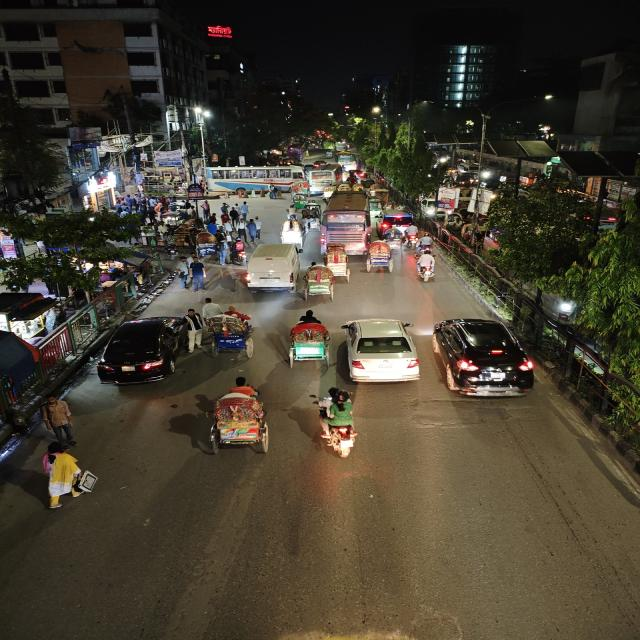bus: (316, 192, 378, 253), (207, 165, 305, 190), (302, 165, 340, 192), (336, 152, 360, 170)
car: (429, 314, 542, 402), (95, 308, 196, 388), (339, 316, 422, 388), (242, 242, 300, 294)
motorcycle: (307, 387, 367, 462), (412, 250, 442, 284), (230, 233, 248, 264), (402, 225, 419, 249), (416, 234, 436, 254)
pedestrian: (37, 441, 87, 512), (39, 394, 80, 446), (187, 256, 208, 292), (179, 255, 197, 291), (246, 216, 263, 244), (267, 184, 282, 200)
rickshaw: (195, 374, 278, 458), (281, 316, 335, 370), (207, 310, 259, 364), (301, 260, 337, 302), (362, 240, 398, 274), (324, 244, 352, 284), (192, 229, 218, 259)
